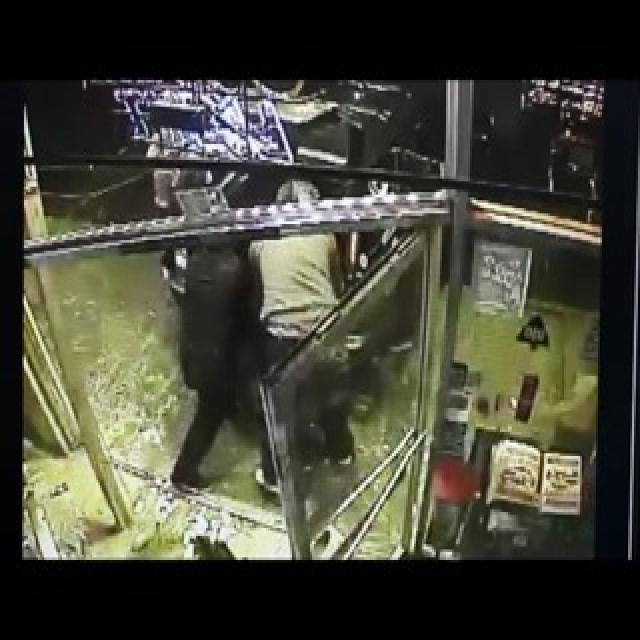thief: (142, 170, 340, 288)
